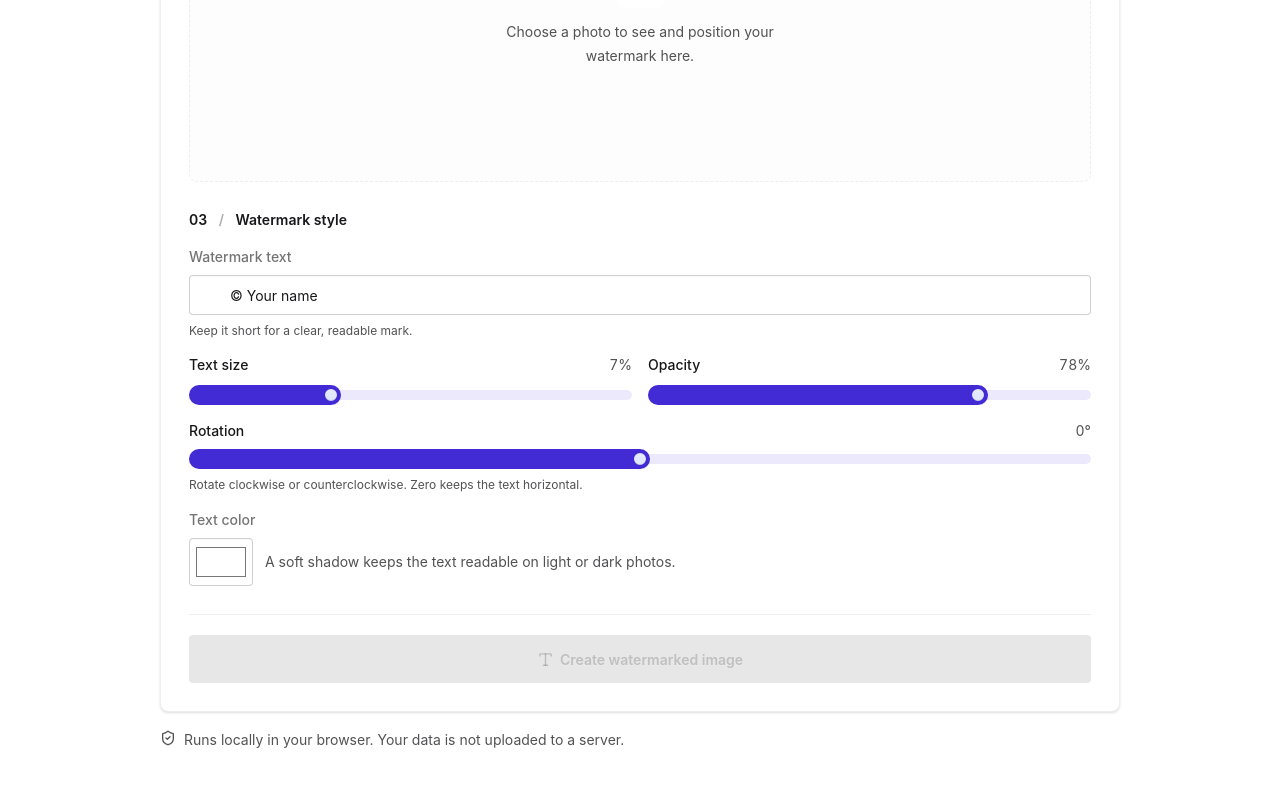
Test: updates the watermark rotation control in degrees
(page scrolled)
Set the slider labelled "Rotation" to "45" at [751, 459], box [189,449,1091,469]
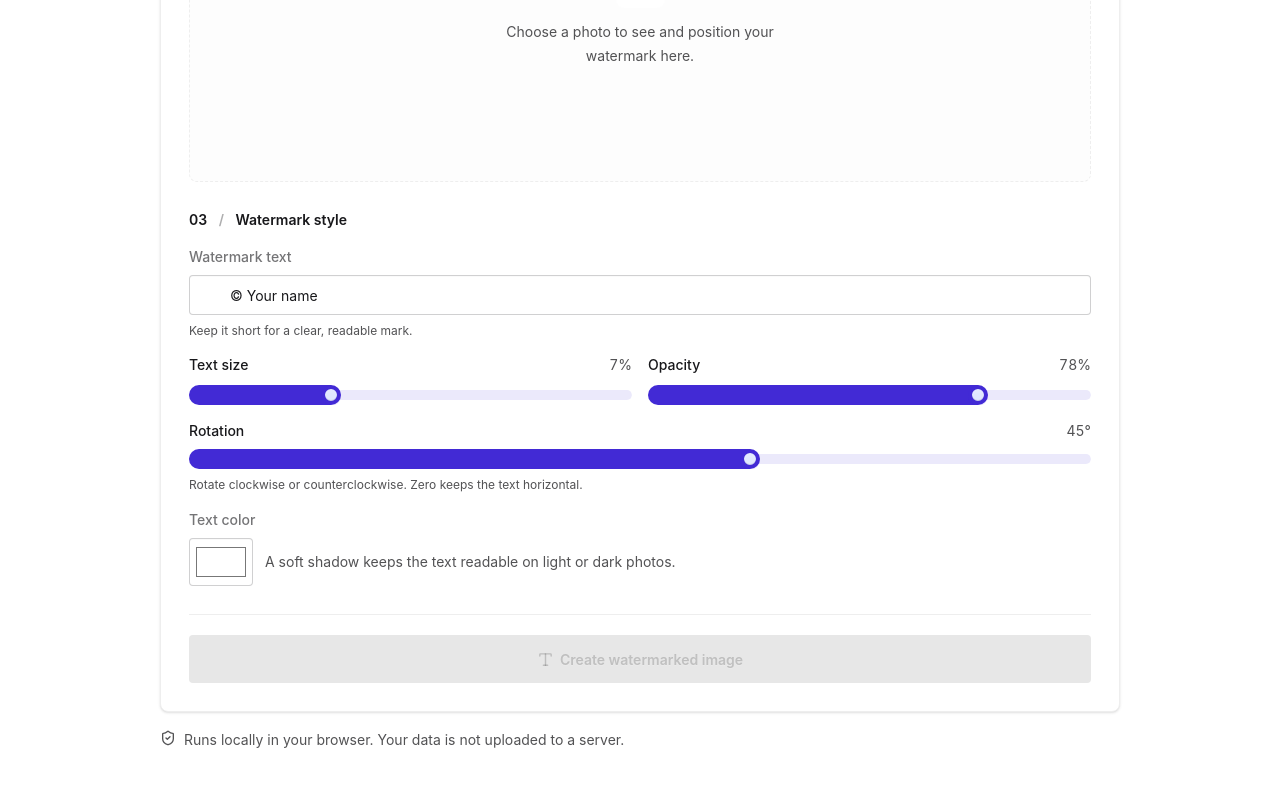
Now the text "45°" is shown, box [1066,421,1091,441]
